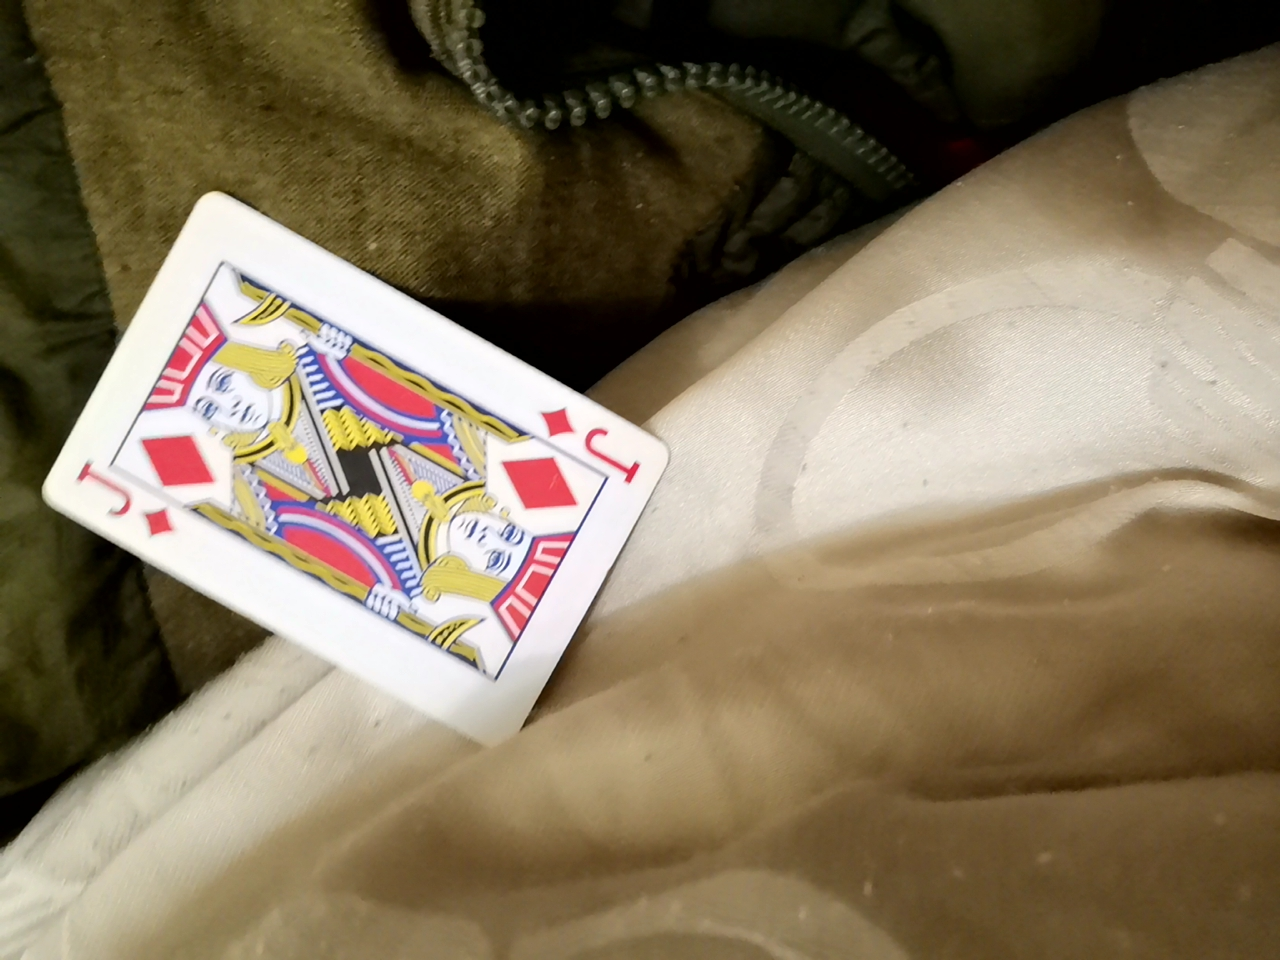fk j: (30, 247, 653, 737)
